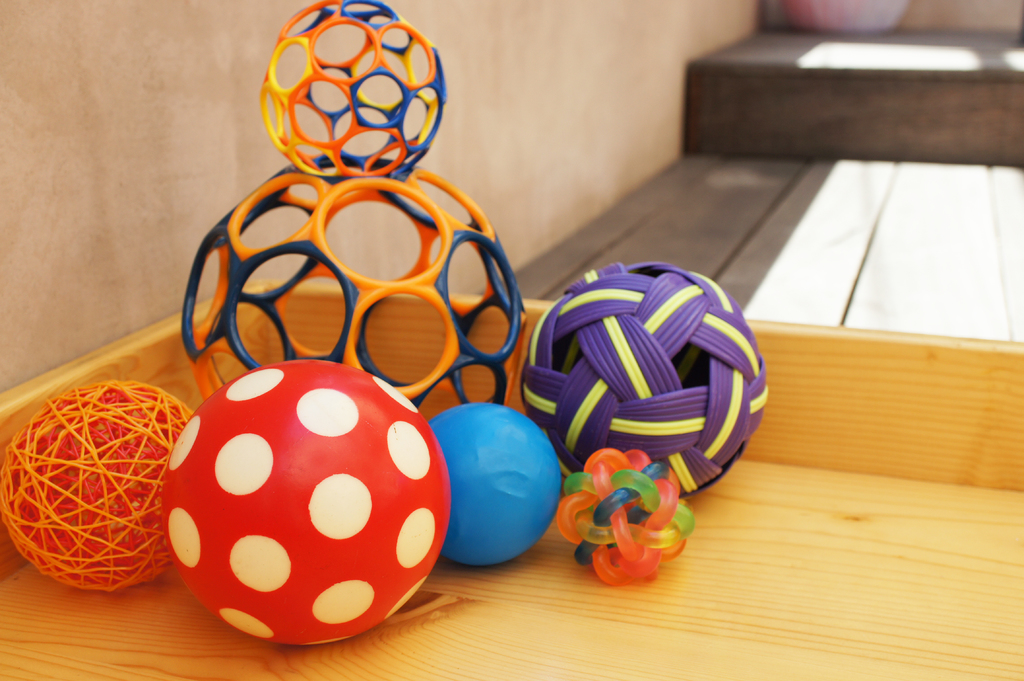Ball: (184, 152, 529, 421), (163, 359, 449, 650), (520, 264, 771, 497), (0, 378, 192, 590), (263, 0, 445, 184), (428, 402, 562, 570), (557, 448, 696, 586)
